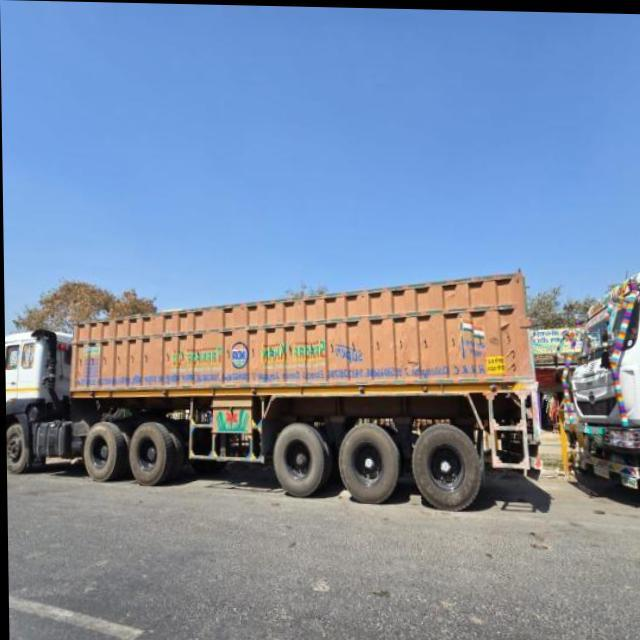uncovered: (3, 257, 536, 536)
